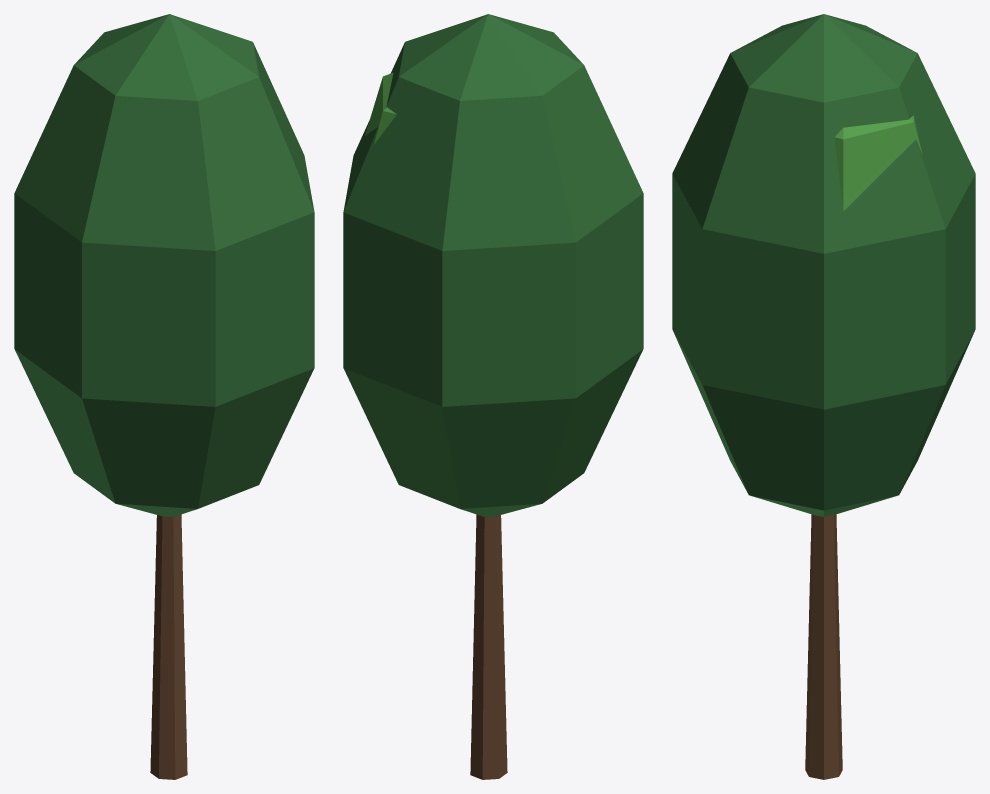
The model's file is tree_b.glb.
The picture shows the model from 3 angles, left to right: view 1: azimuth 30°, elevation 25°; view 2: azimuth 150°, elevation 25°; view 3: azimuth 270°, elevation 25°; orthographic projection.
Visible parts, largest first — view 1: tree_b_Body; view 2: tree_b_Body; view 3: tree_b_Body.
Part boxes in pixels (box(x1,y1,x2,y2)): tree_b_Body: box(14, 14, 314, 779); tree_b_Body: box(343, 14, 643, 779); tree_b_Body: box(672, 14, 975, 779).
Size of the model in its own units: 3.07 by 8.69 by 3.15.
